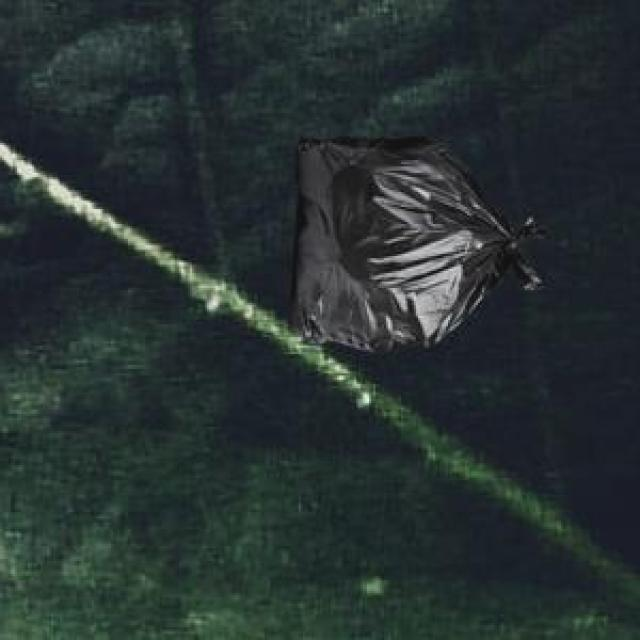Trashbag: (283, 128, 551, 354)
